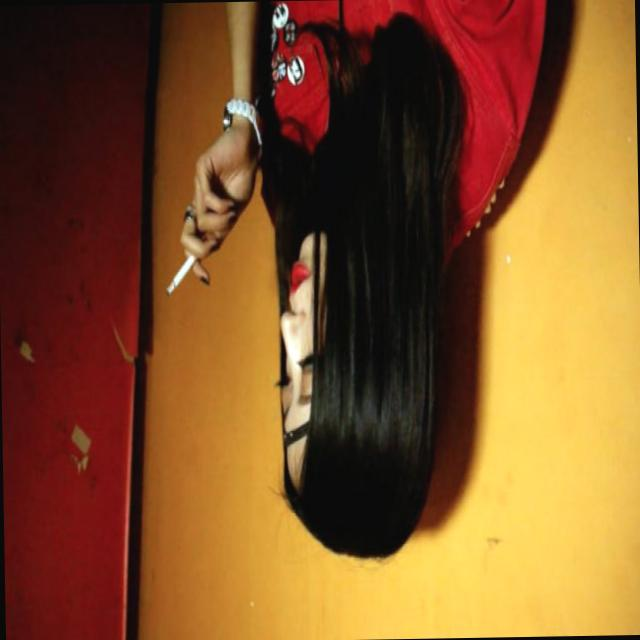cigarette: (163, 249, 196, 298)
